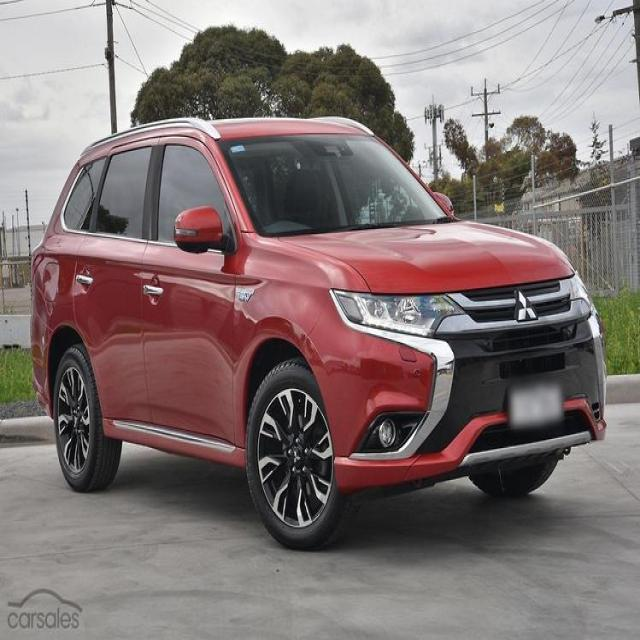light_vehicle: (29, 115, 607, 550)
